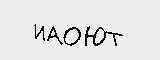В: (32, 17, 57, 43)
С: (7, 18, 31, 39)
У: (59, 16, 81, 41)
Ю: (110, 20, 144, 40)
Я: (98, 19, 111, 39)
Ә: (83, 19, 97, 38)
